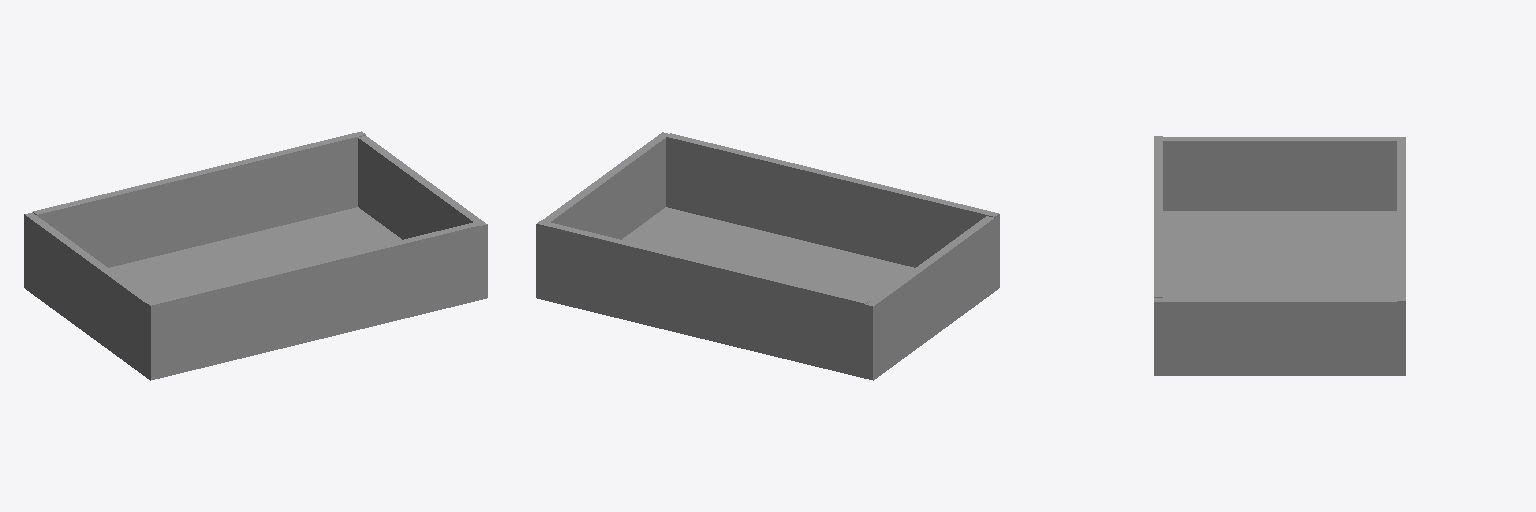
The model's file is cf_r_col.obj.
3 views of the same model, side by side, from view 1: azimuth 30°, elevation 25°; view 2: azimuth 150°, elevation 25°; view 3: azimuth 270°, elevation 25° (orthographic).
Visible parts, largest first — view 1: 0base.002_Cube.034, 0base.003_Cube.035, 0base_Cube.006, 0base.004_Cube.036, 0base.001_Cube.033; view 2: 0base.003_Cube.035, 0base.002_Cube.034, 0base_Cube.006, 0base.004_Cube.036, 0base.001_Cube.033; view 3: 0base_Cube.006, 0base.001_Cube.033, 0base.004_Cube.036, 0base.003_Cube.035, 0base.002_Cube.034.
Boxes of the visible parts, x1=… form: 0base.002_Cube.034: x1=146, y1=222, x2=478, y2=375; 0base.003_Cube.035: x1=33, y1=131, x2=365, y2=267; 0base_Cube.006: x1=24, y1=207, x2=487, y2=380; 0base.004_Cube.036: x1=24, y1=212, x2=158, y2=376; 0base.001_Cube.033: x1=358, y1=136, x2=487, y2=295; 0base.003_Cube.035: x1=536, y1=220, x2=869, y2=373; 0base.002_Cube.034: x1=666, y1=133, x2=999, y2=286; 0base_Cube.006: x1=536, y1=207, x2=999, y2=380; 0base.004_Cube.036: x1=865, y1=216, x2=994, y2=376; 0base.001_Cube.033: x1=536, y1=132, x2=668, y2=296; 0base_Cube.006: x1=1154, y1=211, x2=1405, y2=375; 0base.001_Cube.033: x1=1154, y1=298, x2=1405, y2=371; 0base.004_Cube.036: x1=1163, y1=137, x2=1405, y2=210; 0base.003_Cube.035: x1=1397, y1=140, x2=1405, y2=370; 0base.002_Cube.034: x1=1154, y1=136, x2=1162, y2=297.
Size of the model in its own units: 11.39 by 2.42 by 7.38.